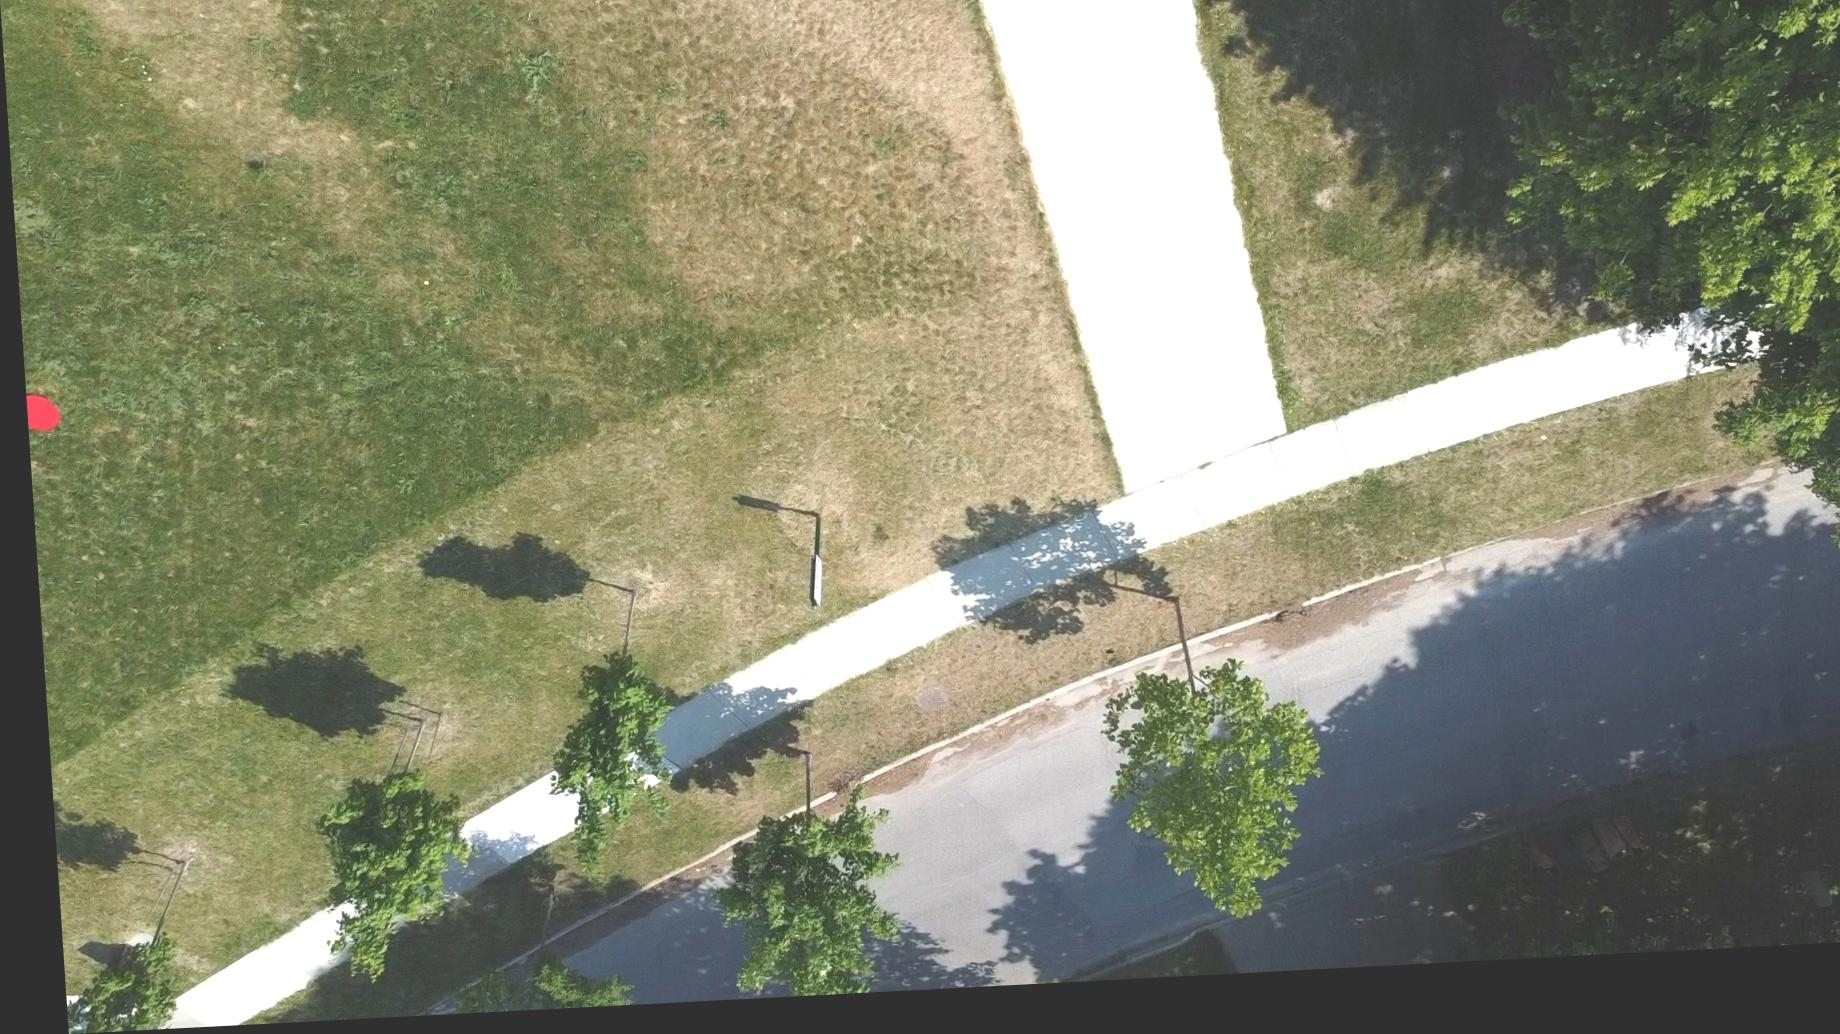Red: (20, 393, 58, 434)
